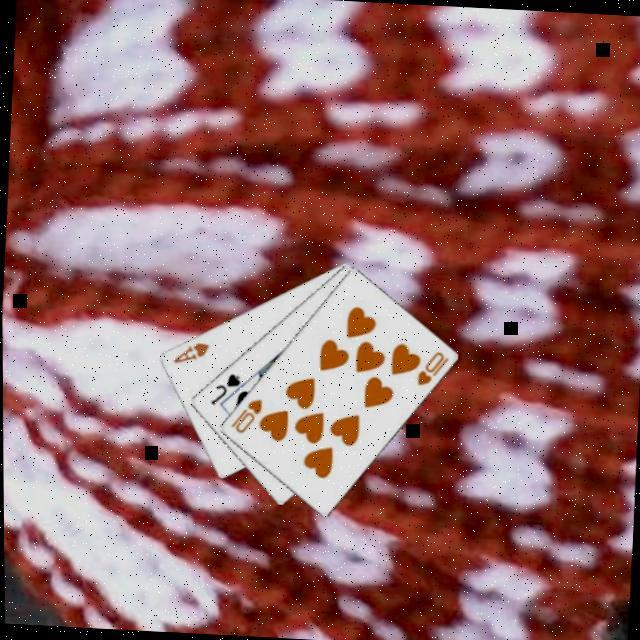10H: (226, 396, 264, 440), (411, 349, 449, 393)
AH: (167, 340, 210, 370)
JS: (204, 372, 242, 412)
